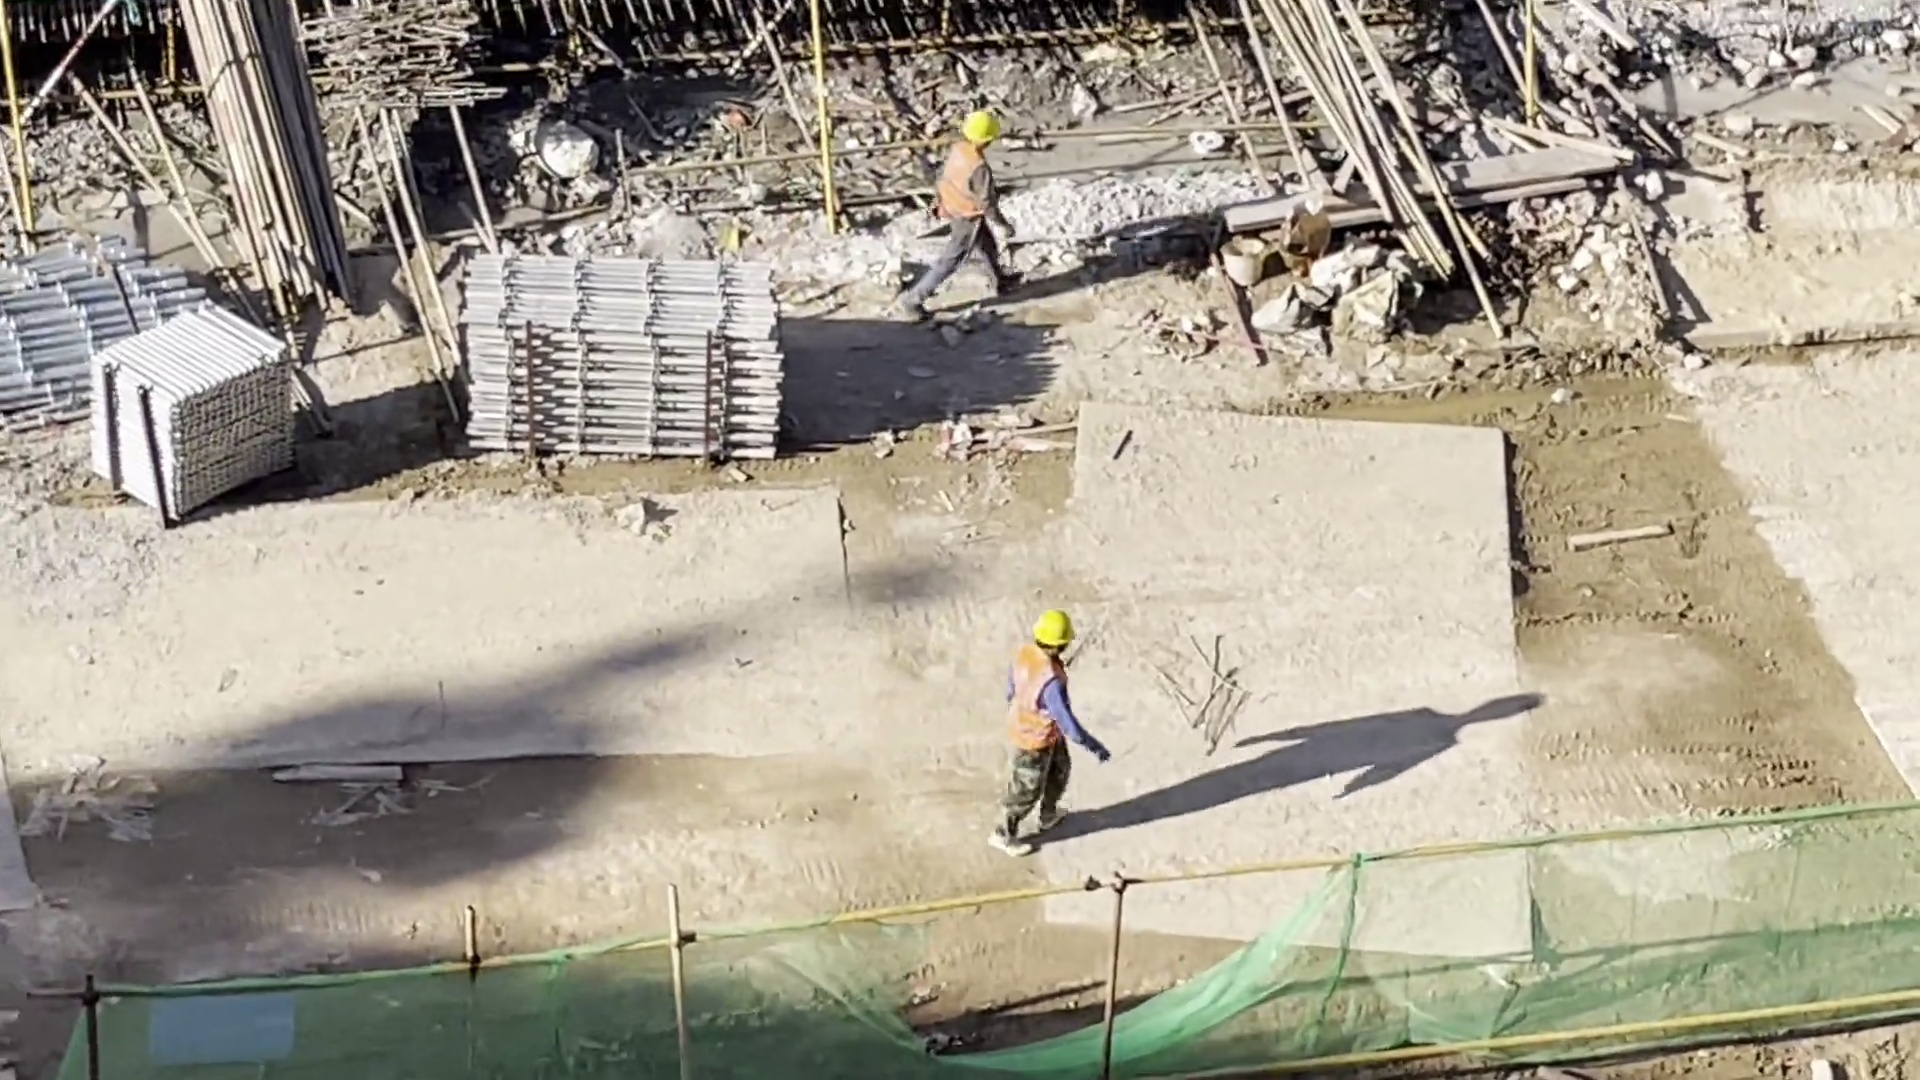helmet: (1022, 595, 1084, 665), (956, 102, 1017, 153)
person: (897, 90, 1067, 345), (989, 589, 1093, 868)
scaffold: (446, 234, 800, 488), (78, 298, 309, 531)
vest: (1001, 645, 1066, 757), (930, 135, 995, 219)
